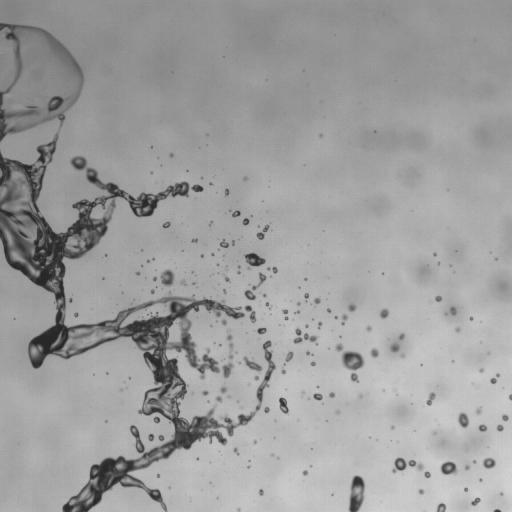droplet: (293, 327, 318, 344), (244, 252, 265, 269), (159, 269, 174, 286), (440, 461, 457, 474), (457, 412, 469, 428), (278, 397, 289, 413), (482, 457, 495, 469), (426, 392, 435, 405), (285, 351, 293, 363), (380, 308, 389, 318), (370, 348, 379, 358), (390, 343, 399, 352), (436, 503, 446, 511), (313, 392, 322, 400), (471, 497, 480, 505), (256, 327, 266, 334), (220, 239, 228, 247), (478, 424, 487, 431), (341, 314, 347, 324), (232, 210, 240, 217), (162, 221, 170, 228), (348, 303, 355, 311), (242, 218, 249, 225), (496, 424, 503, 431), (223, 274, 229, 282), (450, 307, 456, 315), (148, 433, 154, 441), (179, 279, 186, 285), (314, 297, 320, 304), (220, 386, 226, 393), (215, 396, 222, 402), (502, 414, 508, 421), (265, 303, 271, 309), (476, 407, 481, 414), (435, 296, 441, 301), (221, 319, 226, 325), (399, 333, 404, 339), (281, 368, 286, 374), (202, 390, 208, 395), (302, 470, 308, 475), (318, 321, 322, 328), (366, 326, 371, 331), (455, 327, 460, 332), (254, 375, 259, 380), (329, 392, 334, 397), (264, 407, 269, 412), (464, 465, 469, 470), (418, 489, 423, 494), (225, 189, 229, 195), (191, 238, 197, 242), (304, 293, 308, 299), (306, 351, 312, 355), (234, 448, 238, 454), (259, 489, 263, 495), (150, 289, 154, 294), (74, 312, 78, 317), (311, 361, 315, 366), (479, 368, 484, 372), (461, 446, 466, 450), (169, 153, 173, 157), (262, 293, 266, 297), (295, 310, 299, 314), (469, 316, 473, 320), (335, 409, 339, 413), (243, 177, 247, 180), (209, 221, 212, 225), (153, 276, 156, 280), (223, 289, 226, 293), (69, 298, 72, 302), (296, 302, 300, 305), (327, 308, 330, 312), (301, 391, 304, 395), (358, 394, 362, 397), (391, 425, 394, 429), (136, 272, 139, 275), (334, 316, 337, 319), (253, 440, 256, 443), (464, 488, 467, 491), (237, 508, 240, 511), (319, 134, 322, 136), (210, 182, 212, 185), (433, 253, 436, 255), (495, 257, 497, 260), (304, 278, 307, 280), (305, 325, 308, 327), (401, 354, 403, 357), (473, 460, 475, 463), (479, 478, 481, 481), (232, 242, 234, 244), (201, 255, 203, 257), (240, 406, 242, 408), (500, 492, 502, 494)
ligament: (0, 133, 272, 511), (0, 22, 83, 140), (335, 343, 364, 382), (392, 457, 430, 477), (348, 475, 365, 511), (244, 273, 266, 300), (243, 356, 262, 372), (257, 224, 269, 239), (490, 373, 499, 383), (282, 309, 288, 320), (267, 267, 277, 273), (237, 265, 240, 273), (493, 509, 501, 511), (509, 394, 511, 400)
